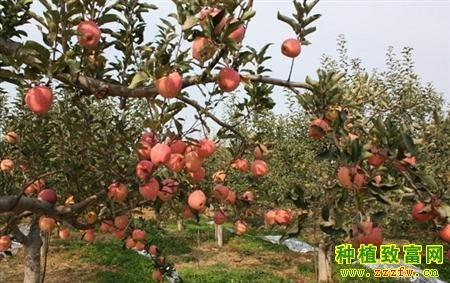apple: (75, 19, 100, 49), (26, 86, 53, 113), (154, 72, 181, 98), (218, 68, 239, 90), (149, 143, 170, 164), (280, 37, 301, 57)
